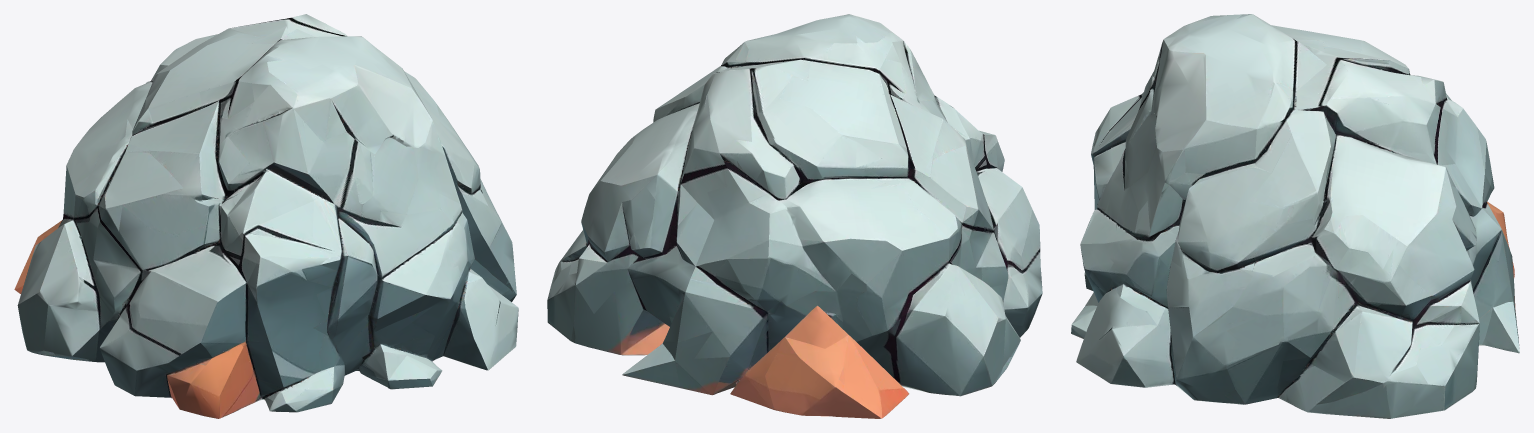
Rendered from scn_boulder.glb.
3 views of the same model, side by side, from view 1: azimuth 30°, elevation 25°; view 2: azimuth 150°, elevation 25°; view 3: azimuth 270°, elevation 25° (orthographic). The views are drawn at different scales.
Bounding box in the file's own units: 1.9 × 1.16 × 1.67.
Materials: 1 (1 with a texture image).
